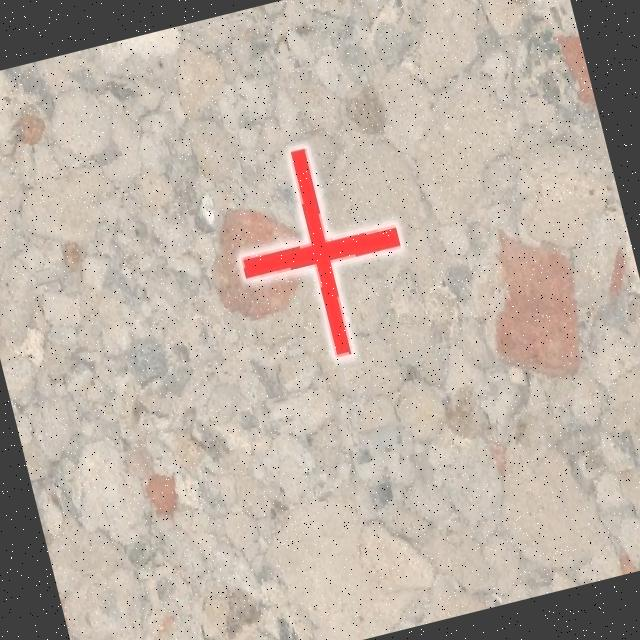x_marker: (218, 130, 422, 372)
